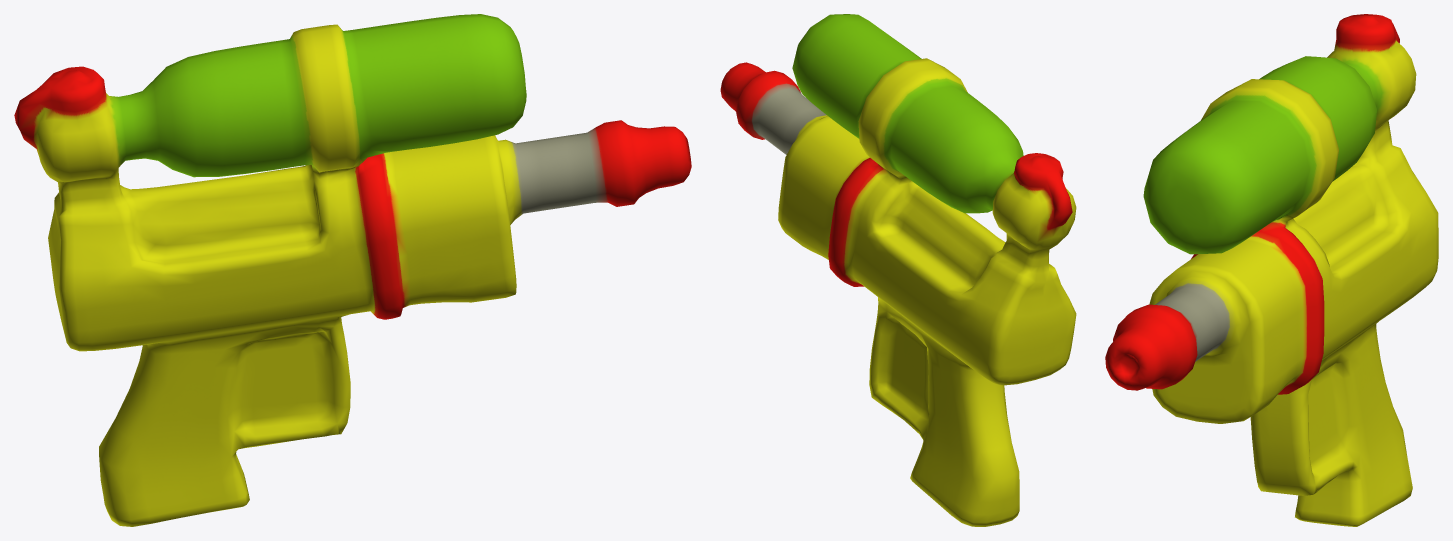
The model's file is SuperSoaker1.glb.
3 renders of one model, left to right at view 1: azimuth 30°, elevation 25°; view 2: azimuth 150°, elevation 25°; view 3: azimuth 270°, elevation 25°, orthographic. The views are drawn at different scales.
Visible parts, largest first — view 1: Super Soaker1; view 2: Super Soaker1; view 3: Super Soaker1.
Boxes of the visible parts, bbox=[...] form: Super Soaker1: bbox=[14, 14, 691, 526]; Super Soaker1: bbox=[720, 14, 1076, 526]; Super Soaker1: bbox=[1105, 14, 1438, 526].
Bounding box in the file's own units: 0.00695 × 0.00594 × 0.0037.
1 material, 1 textured.
